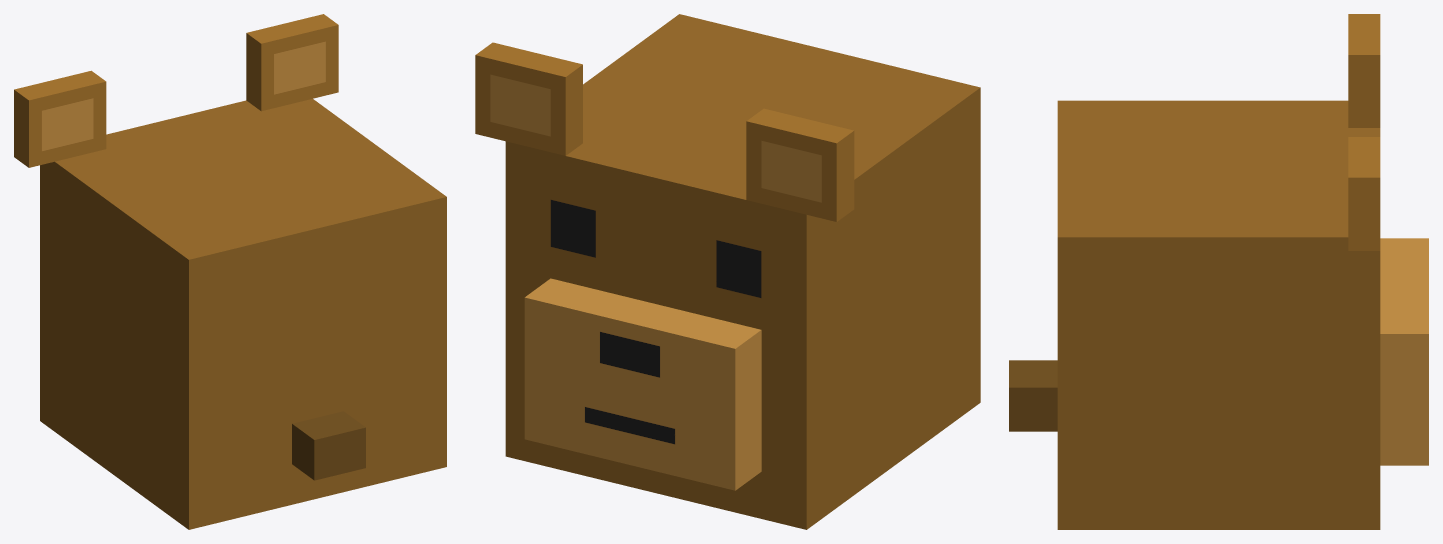
Rendered from Char4.fbx.
The picture shows the model from 3 angles, left to right: view 1: azimuth 30°, elevation 25°; view 2: azimuth 150°, elevation 25°; view 3: azimuth 270°, elevation 25°; orthographic projection. The views are drawn at different scales.
Parts seen in each view (by area): view 1: Box; view 2: Box; view 3: Box.
Boxes of the visible parts, <box> form: Box: <box>14,14,446,529</box>; Box: <box>475,14,980,529</box>; Box: <box>1009,14,1428,529</box>.
Bounding box in the file's own units: 24 × 25 × 26.
